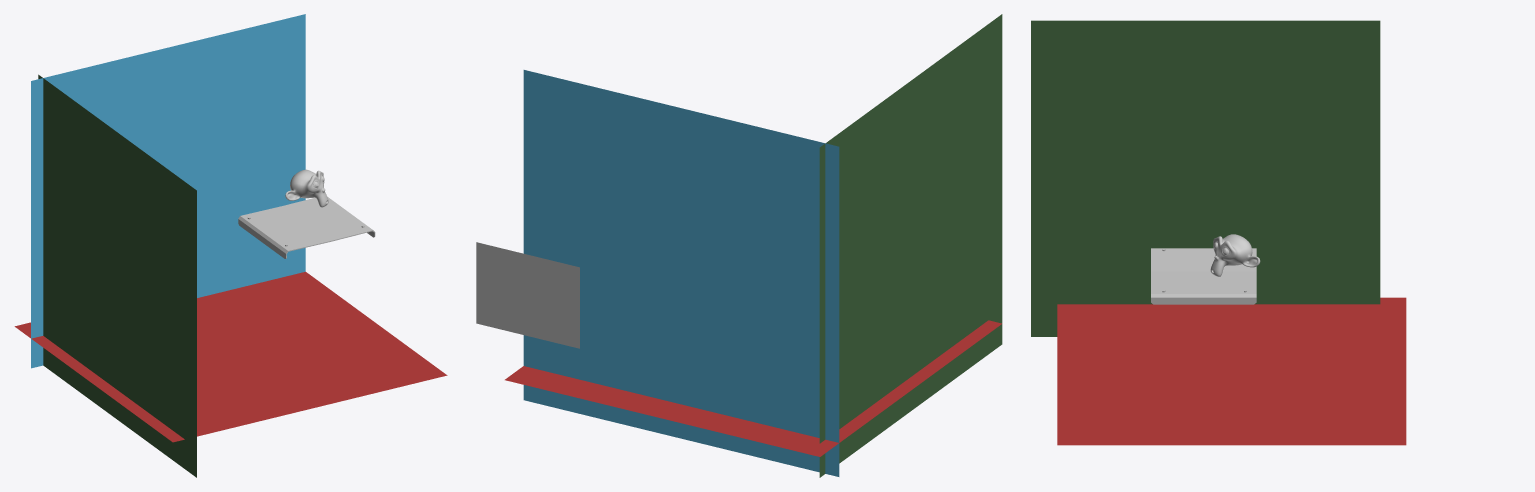
Rendered from print_bed.obj.
The picture shows the model from 3 angles, left to right: view 1: azimuth 30°, elevation 25°; view 2: azimuth 150°, elevation 25°; view 3: azimuth 270°, elevation 25°; orthographic projection. The views are drawn at different scales.
Visible parts, largest first — view 1: Plane.001_Plane.002, Plane.002_Plane.003, Plane.004_Plane.005, Plane, Suzanne; view 2: Plane.002_Plane.003, Plane.001_Plane.002, printrbotfront, Plane.004_Plane.005; view 3: Plane.001_Plane.002, Plane.004_Plane.005, Plane, Suzanne.
Part boxes in pixels (x1,y1,x2,y2): Plane.001_Plane.002: (38,74,196,477); Plane.002_Plane.003: (31,14,305,368); Plane.004_Plane.005: (14,271,447,442); Plane: (238,197,375,258); Suzanne: (285,169,328,207); Plane.002_Plane.003: (523,70,839,476); Plane.001_Plane.002: (819,14,1002,477); printrbotfront: (476,242,579,348); Plane.004_Plane.005: (505,320,1001,456); Plane.001_Plane.002: (1031,20,1380,336); Plane.004_Plane.005: (1057,297,1406,445); Plane: (1151,248,1256,304); Suzanne: (1210,234,1260,276).
Size of the model in its own units: 6.62 by 6.62 by 9.28.
